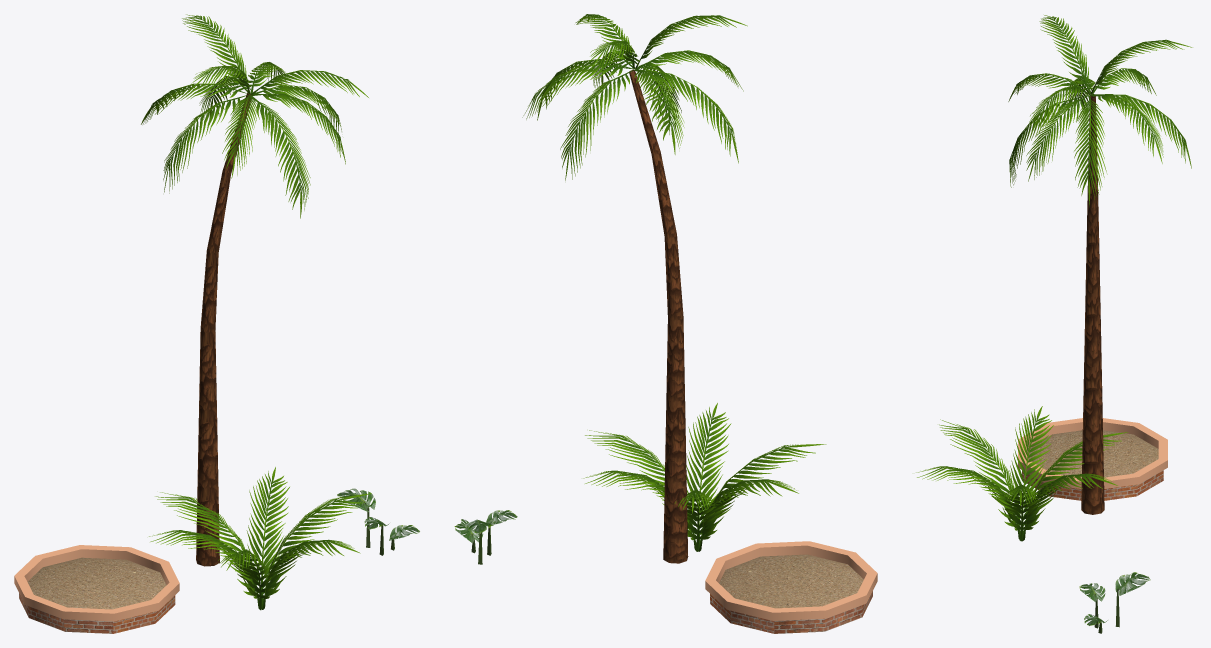
Rendered from PlantsAndTree.fbx.
3 renders of one model, left to right at view 1: azimuth 30°, elevation 25°; view 2: azimuth 150°, elevation 25°; view 3: azimuth 270°, elevation 25°, orthographic. The views are drawn at different scales.
Visible parts, largest first — view 1: PLant1, Base, Tree, Plant; view 2: PLant1, Base, Tree, Plant; view 3: PLant1, Base, Tree, Plant.
Part boxes in pixels (x1,y1,x2,y2): PLant1: (141, 14, 368, 566); Base: (14, 545, 179, 633); Tree: (149, 467, 371, 610); Plant: (337, 488, 419, 555); PLant1: (522, 14, 747, 563); Base: (705, 541, 877, 633); Tree: (583, 403, 826, 551); Plant: (454, 510, 517, 564); PLant1: (1008, 15, 1192, 514); Base: (1018, 418, 1167, 500); Tree: (916, 406, 1128, 541); Plant: (1079, 572, 1150, 633).
Bounding box in the file's own units: 0.112 × 0.1487 × 0.0755.
1 material, 1 textured.
